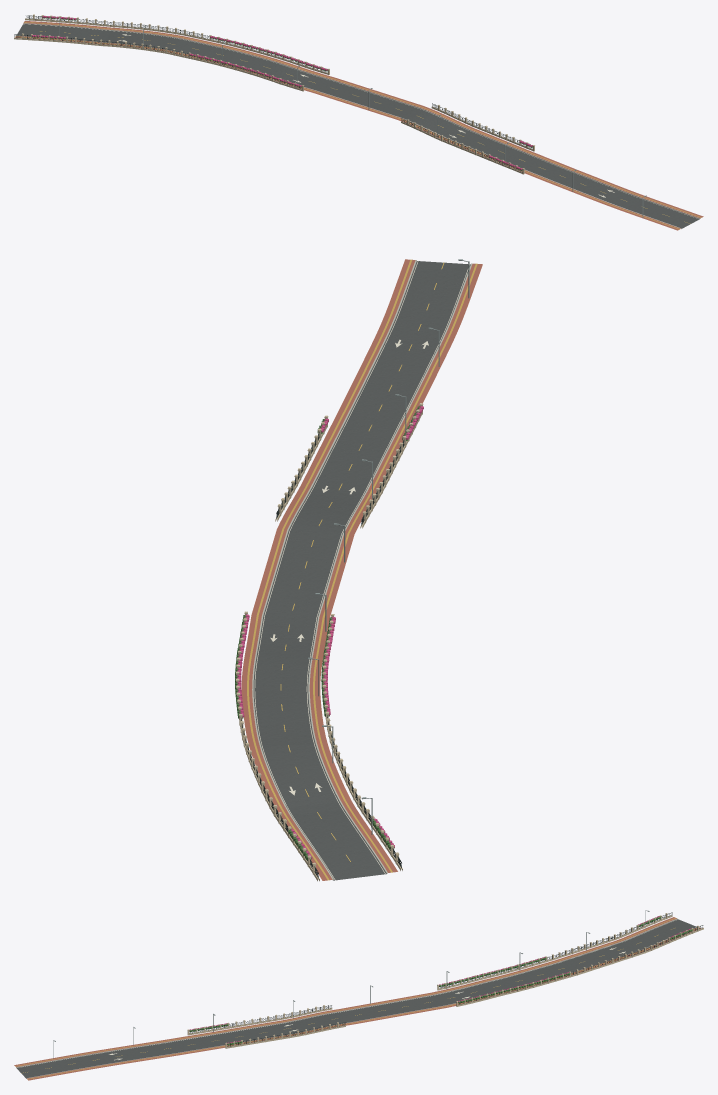
File: infra-road-02.glb
3 views of the same model, one above another, from view 1: azimuth 30°, elevation 25°; view 2: azimuth 150°, elevation 25°; view 3: azimuth 270°, elevation 25° (orthographic). The views are drawn at different scales.
Parts seen in each view (by area): view 1: infra-road-02; view 2: infra-road-02; view 3: infra-road-02.
Part boxes in pixels (<box>): infra-road-02: <box>14,14,703,230</box>; infra-road-02: <box>235,259,482,881</box>; infra-road-02: <box>14,910,703,1080</box>.
Size of the model in its own units: 132 by 12.19 by 246.
12 materials, 1 textured.
